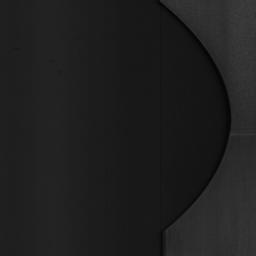Crescent gap: (163, 3, 232, 229)
